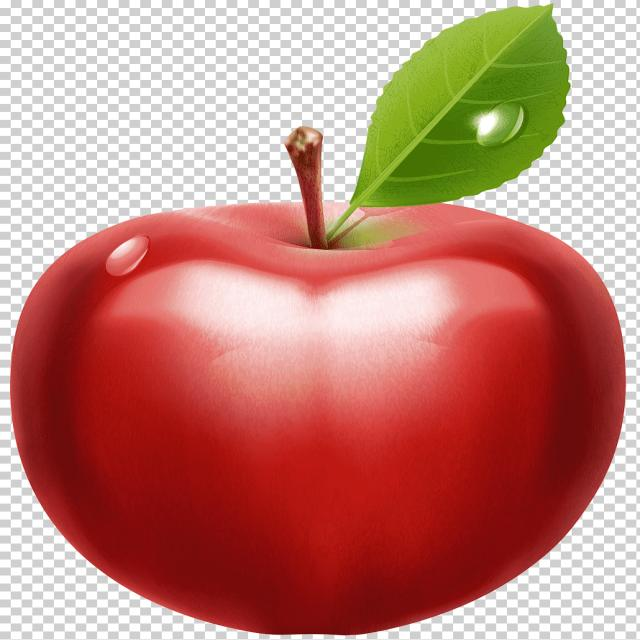manzana: (12, 104, 633, 635)
